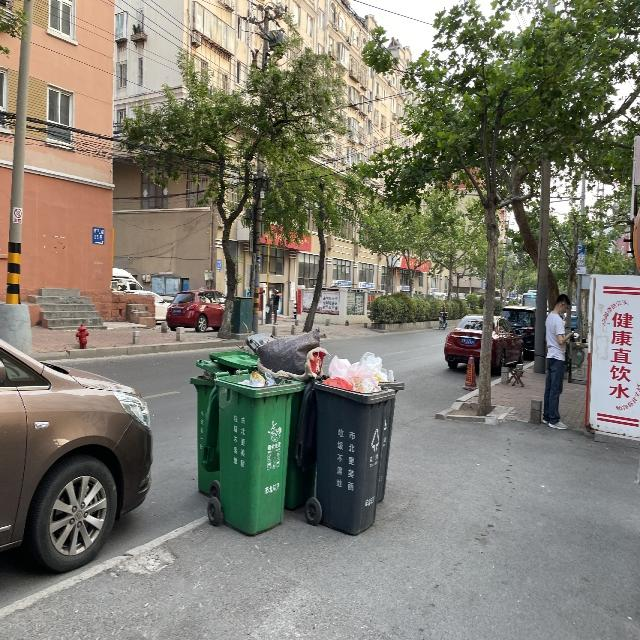overflow: (313, 350, 395, 533), (214, 366, 296, 538), (258, 327, 323, 511), (189, 356, 218, 494)
